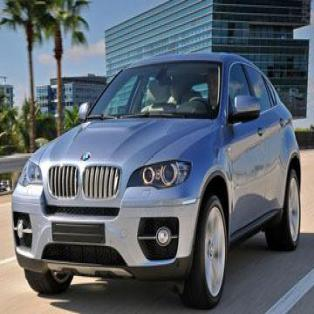Auto: (12, 55, 301, 307)
